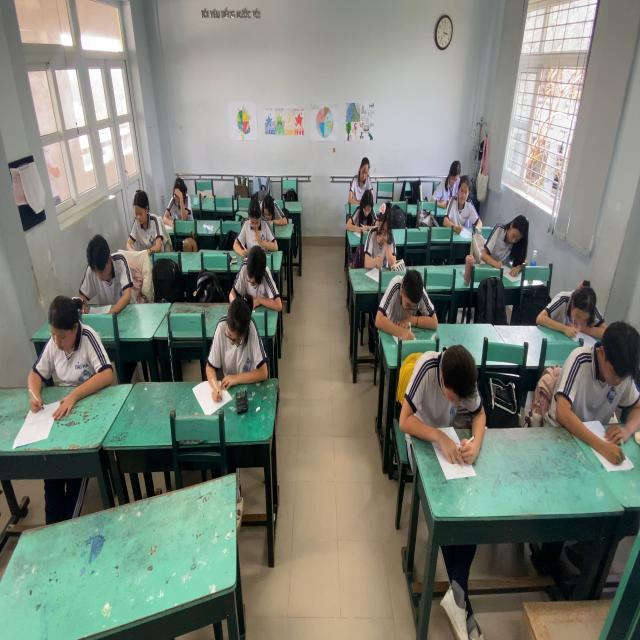not_cheating: (560, 309, 640, 436), (396, 333, 484, 439), (30, 285, 104, 392), (378, 261, 442, 336), (216, 292, 267, 384), (230, 232, 281, 319), (539, 277, 603, 333), (80, 239, 131, 301), (485, 206, 529, 266), (129, 190, 164, 256), (234, 192, 273, 246), (374, 202, 401, 274), (436, 153, 465, 208), (254, 185, 288, 229), (450, 178, 481, 226), (345, 185, 378, 229), (160, 181, 191, 225), (350, 153, 376, 195)
